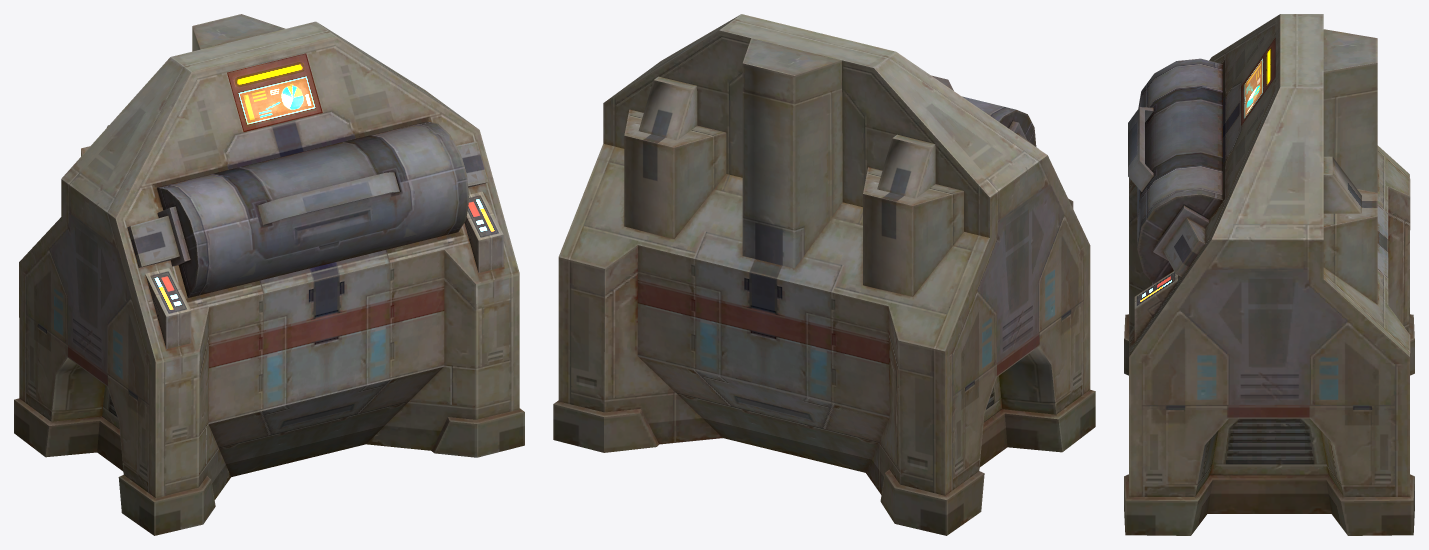
File: all_item_tech_matrix_converter.glb
3 views of the same model, side by side, from view 1: azimuth 30°, elevation 25°; view 2: azimuth 150°, elevation 25°; view 3: azimuth 270°, elevation 25° (orthographic). The views are drawn at different scales.
Visible parts, largest first — view 1: all_item_tech_matrix_converter; view 2: all_item_tech_matrix_converter; view 3: all_item_tech_matrix_converter.
Boxes of the visible parts, <box> form: all_item_tech_matrix_converter: <box>14,14,524,535</box>; all_item_tech_matrix_converter: <box>553,14,1095,535</box>; all_item_tech_matrix_converter: <box>1124,14,1414,535</box>.
Bounding box in the file's own units: 0.2042 × 0.2002 × 0.1345.
Materials: 1 (1 with a texture image).
